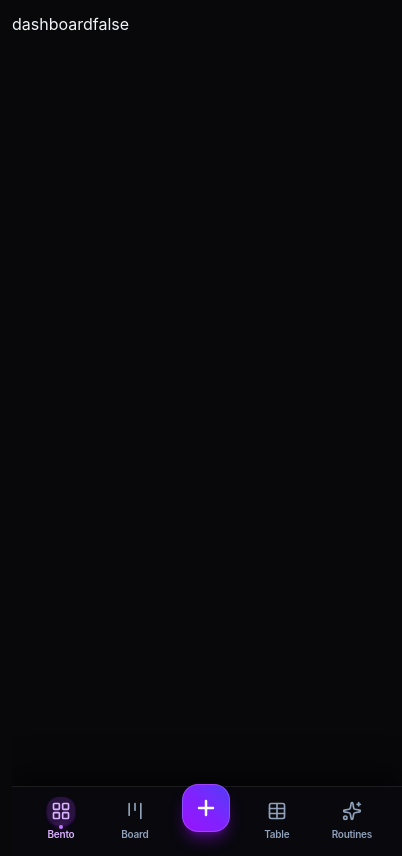
Test: MobileBottomNav Component › switches views smoothly when tapping mobile navigation tabs
Check: the text with test id "active-view-val" reads "dashboard", box [12,14,93,34]
Tap Board tab
What coordinates should you click on to do the following:
click the button "Board"
I would click on:
 (135, 820)
Its box is [108,793,162,846].
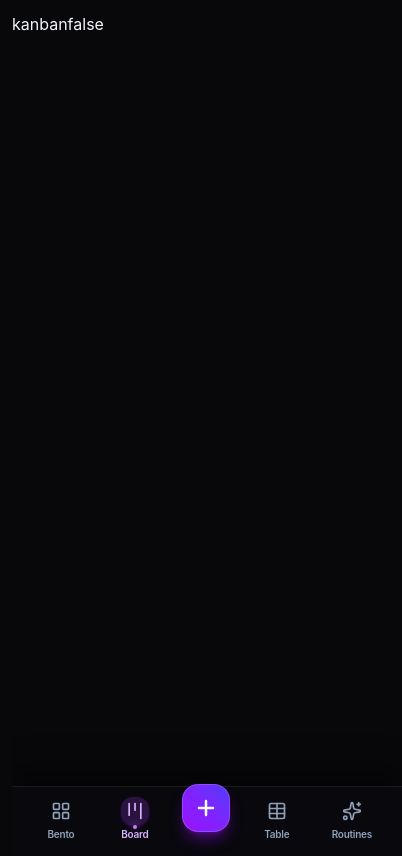
Check: the text with test id "active-view-val" reads "kanban", box [12,14,68,34]
Tap Routines tab
What coordinates should you click on to do the following:
click the button "Routines"
I would click on:
 (352, 820)
Its box is [324,793,380,846].
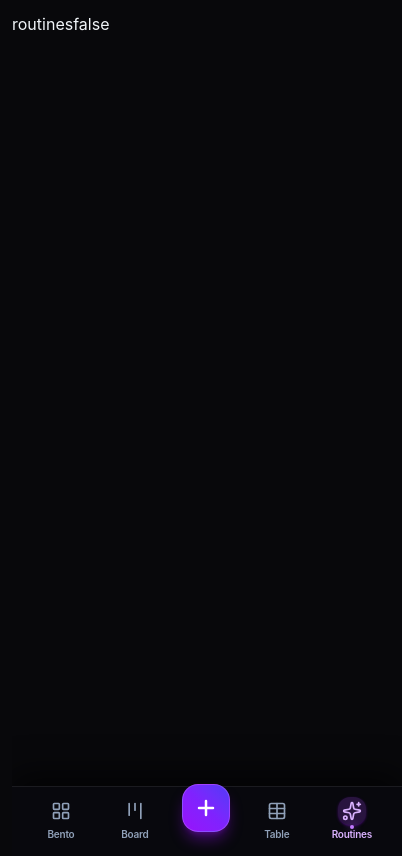
Check: the text with test id "active-view-val" reads "routines", box [12,14,73,34]
Tap Table tab
What coordinates should you click on to do the following:
click the button "Table"
I would click on:
 (277, 820)
Its box is [250,793,304,846].
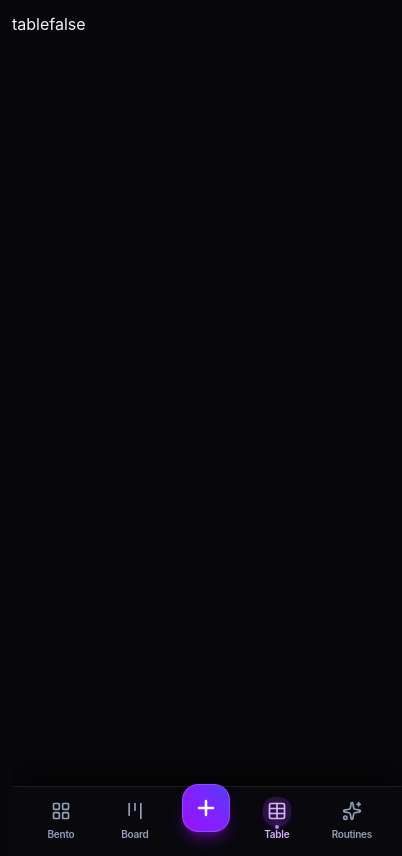
Check: the text with test id "active-view-val" reads "table", box [12,14,49,34]
